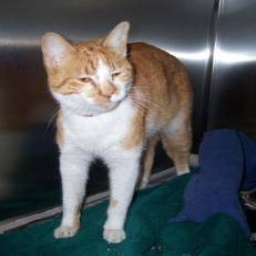cat: (38, 22, 198, 244)
